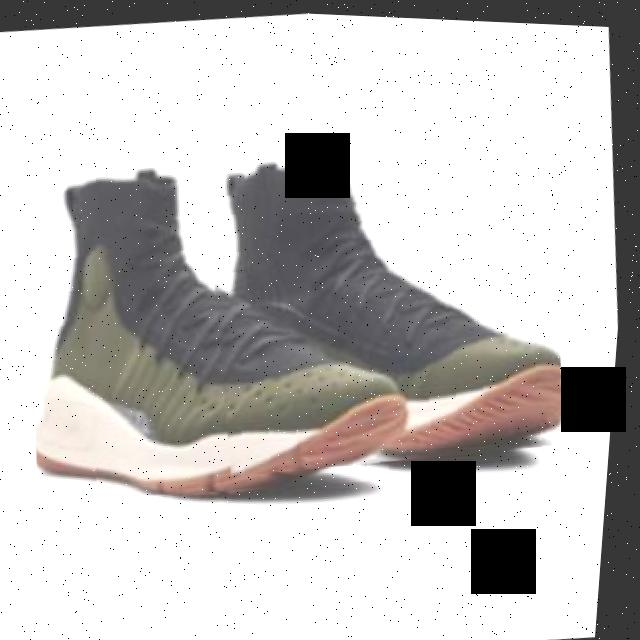shoe: (11, 137, 425, 515), (189, 129, 587, 487)
